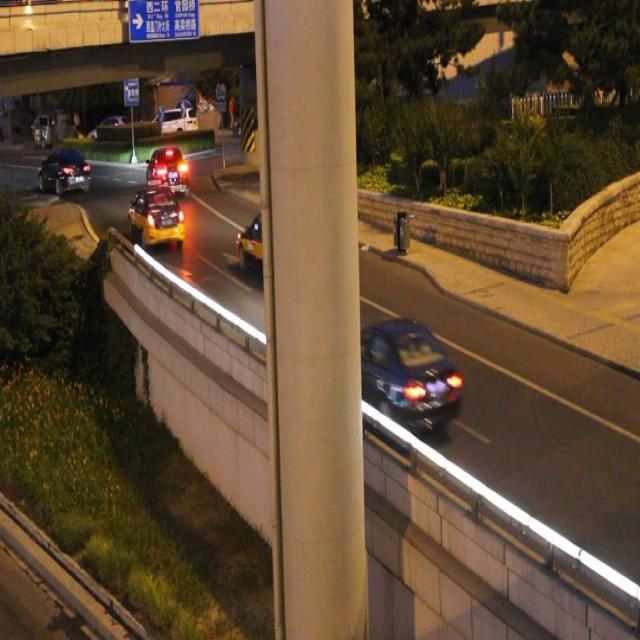car: (328, 316, 462, 435), (236, 202, 308, 286), (129, 184, 185, 250), (146, 146, 190, 198)
